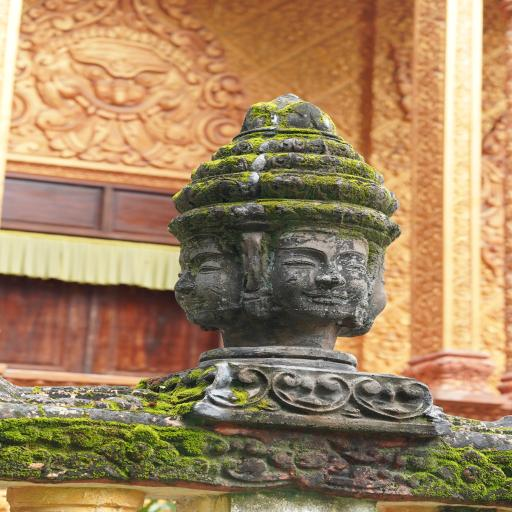la: (266, 358, 356, 418), (356, 366, 447, 423), (192, 352, 265, 412)
than: (146, 84, 465, 468), (18, 0, 249, 173)
